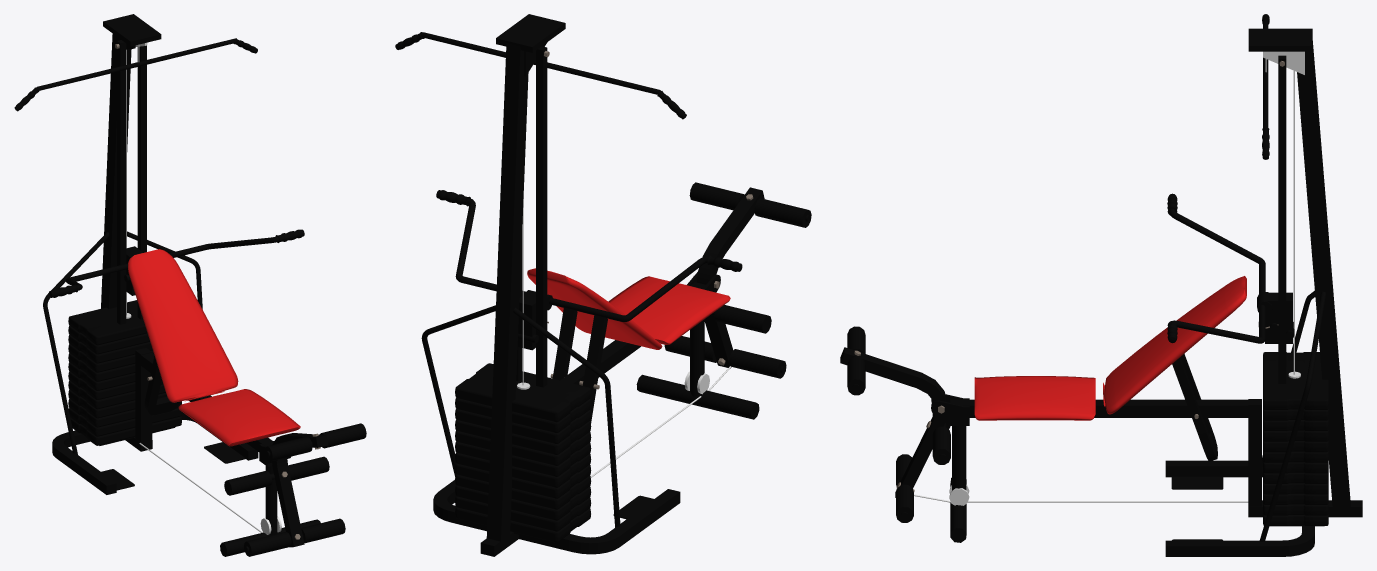
File: gym.obj
3 views of the same model, side by side, from view 1: azimuth 30°, elevation 25°; view 2: azimuth 150°, elevation 25°; view 3: azimuth 270°, elevation 25° (orthographic). The views are drawn at different scales.
Visible parts, largest first — view 1: mainframe, seatback, footbar, weight1, lowbar, HighBar, seatpole, weight2, weight3, weight4; view 2: mainframe, footbar, lowbar, weight1, seatback, seatpole, HighBar, weight3, weight2, weight4; view 3: mainframe, footbar, seatback, lowbar, weight1, seatpole, HighBar, weight2, weight4, weight3.
Boxes of the visible parts, box(x1,y1,x2,y2) form: mainframe: box(43, 14, 320, 556); seatback: box(128, 249, 238, 402); footbar: box(224, 423, 366, 556); weight1: box(68, 300, 147, 345); lowbar: box(49, 229, 304, 297); HighBar: box(14, 38, 257, 111); seatpole: box(144, 356, 180, 415); weight2: box(68, 326, 149, 354); weight3: box(68, 335, 152, 363); weight4: box(68, 344, 153, 372); mainframe: box(421, 14, 759, 556); footbar: box(664, 182, 811, 390); lowbar: box(436, 190, 742, 350); weight1: box(455, 363, 591, 422); seatback: box(527, 268, 662, 349); seatpole: box(552, 308, 607, 423); HighBar: box(395, 32, 686, 119); weight3: box(455, 409, 591, 443); weight2: box(455, 398, 591, 433); weight4: box(455, 420, 591, 454); mainframe: box(931, 28, 1362, 556); footbar: box(840, 326, 950, 522); seatback: box(1103, 276, 1246, 414); lowbar: box(1167, 193, 1294, 343); weight1: box(1263, 352, 1328, 409); seatpole: box(1172, 353, 1217, 461); HighBar: box(1262, 14, 1269, 159); weight2: box(1263, 408, 1328, 420); weight4: box(1263, 429, 1328, 441); weight3: box(1263, 418, 1328, 430).
Size of the model in its own units: 46.33 by 72.45 by 71.61.
